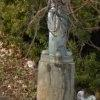Statue: (39, 8, 73, 76)
